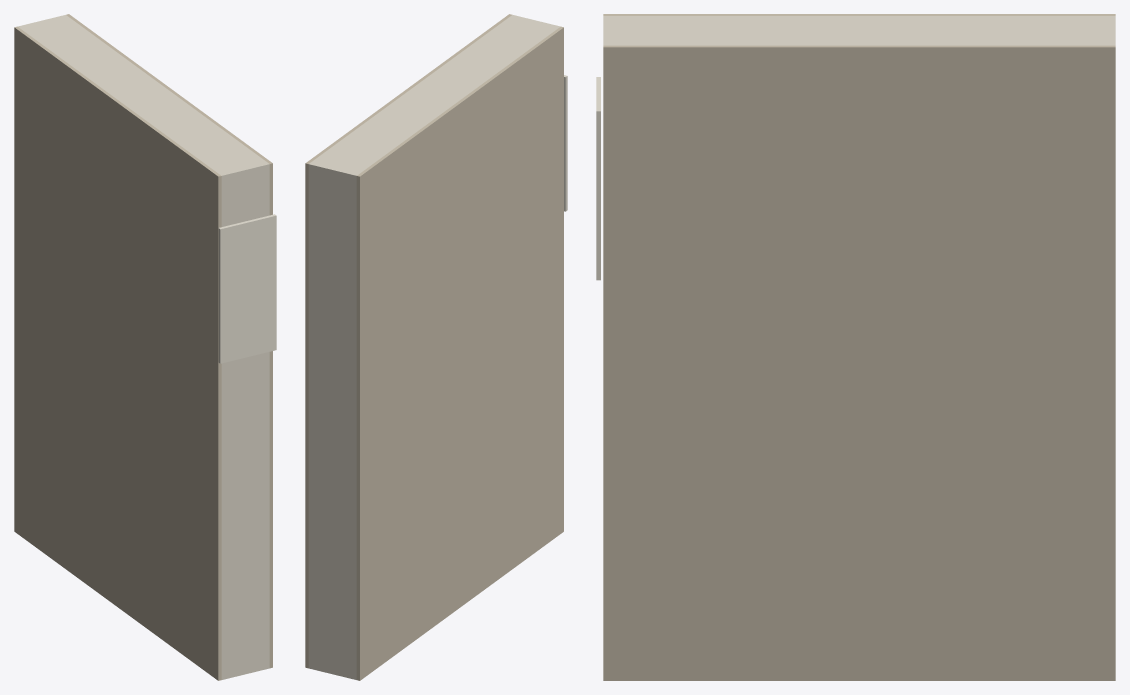
The model's file is prop_chart_file.fbx.
The picture shows the model from 3 angles, left to right: view 1: azimuth 30°, elevation 25°; view 2: azimuth 150°, elevation 25°; view 3: azimuth 270°, elevation 25°; orthographic projection. The views are drawn at different scales.
Visible parts, largest first — view 1: File_Cover_F, File_Body, File_Label, File_Cover_B; view 2: File_Cover_F, File_Body, File_Cover_B, File_Label; view 3: File_Cover_B, File_Body, File_Cover_F, File_Label.
Boxes of the visible parts, bbox=[...] form: File_Cover_F: bbox=[14, 26, 221, 680]; File_Body: bbox=[18, 15, 269, 679]; File_Label: bbox=[218, 214, 276, 363]; File_Cover_B: bbox=[66, 14, 272, 668]; File_Cover_F: bbox=[356, 26, 563, 680]; File_Body: bbox=[308, 15, 560, 679]; File_Cover_B: bbox=[305, 14, 512, 668]; File_Label: bbox=[564, 75, 567, 211]; File_Cover_B: bbox=[603, 45, 1115, 680]; File_Body: bbox=[603, 16, 1115, 45]; File_Cover_F: bbox=[603, 14, 1115, 15]; File_Label: bbox=[596, 77, 600, 280].
Size of the model in its own units: 3.5 by 30 by 22.3.
